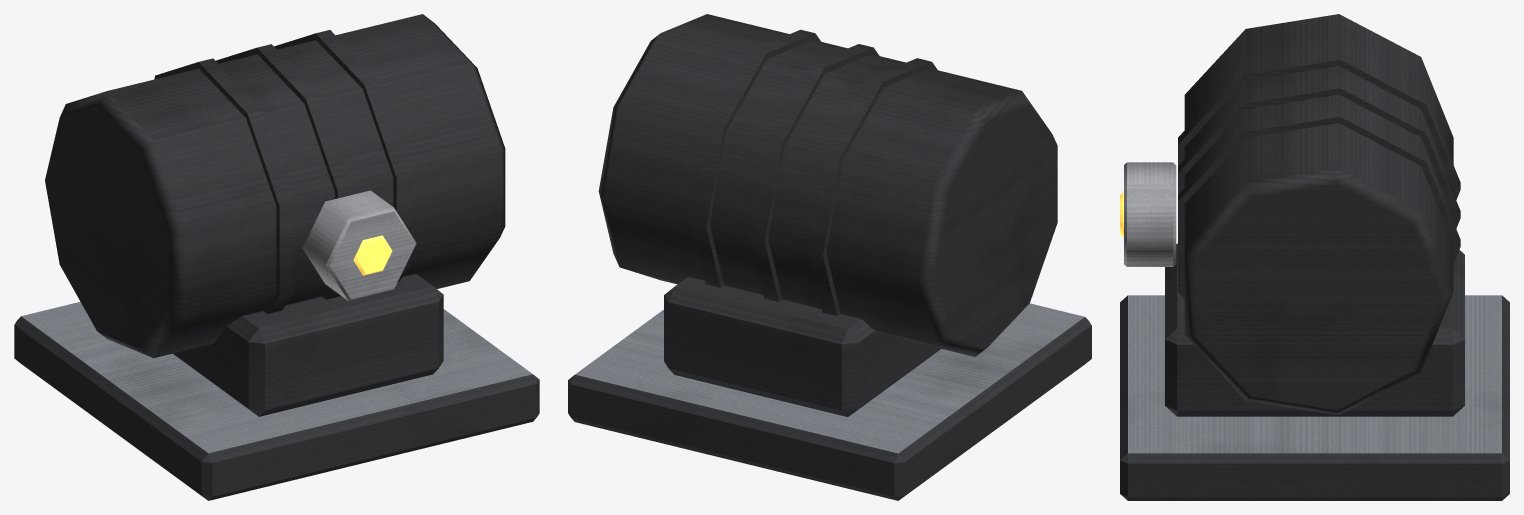
Rendered from R4X_DrivePower_LOD1.glb.
3 renders of one model, left to right at view 1: azimuth 30°, elevation 25°; view 2: azimuth 150°, elevation 25°; view 3: azimuth 270°, elevation 25°, orthographic.
Visible parts, largest first — view 1: R4X_DrivePower_LOD1; view 2: R4X_DrivePower_LOD1; view 3: R4X_DrivePower_LOD1.
Boxes of the visible parts, x1,y1,x2,y2 form: R4X_DrivePower_LOD1: (14,14,539,500); R4X_DrivePower_LOD1: (568,14,1091,500); R4X_DrivePower_LOD1: (1120,14,1509,500).
Size of the model in its own units: 0.52 by 0.4963 by 0.52.
Materials: 4 (3 with a texture image).
